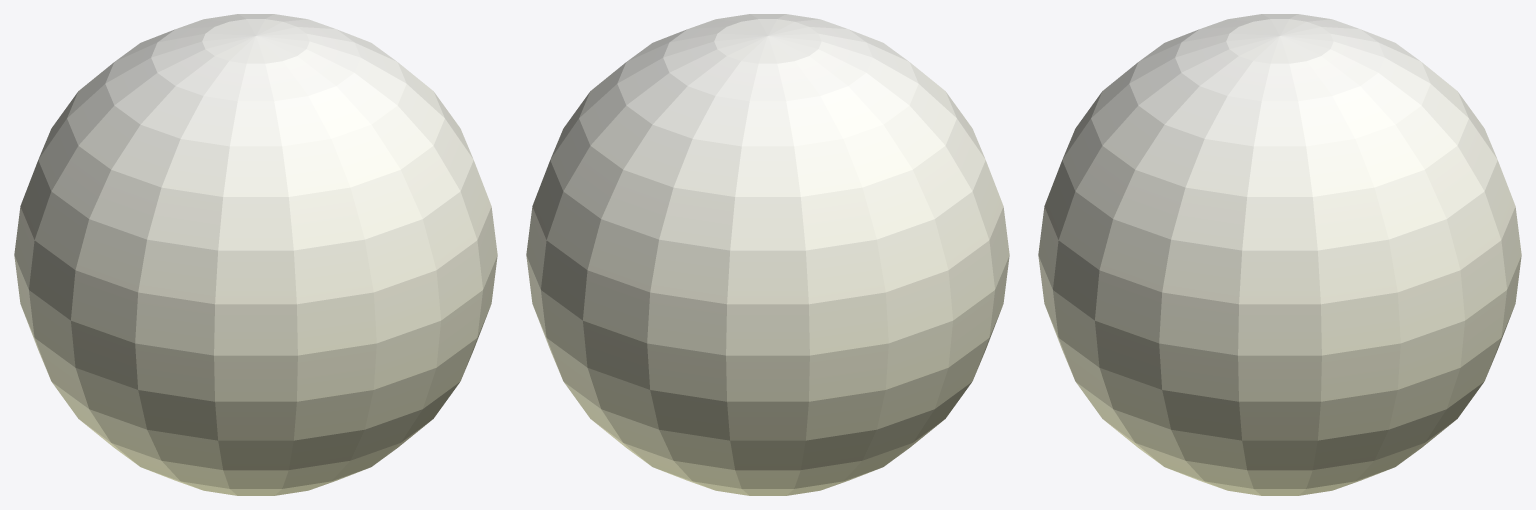
3 renders of one model, left to right at view 1: azimuth 30°, elevation 25°; view 2: azimuth 150°, elevation 25°; view 3: azimuth 270°, elevation 25°, orthographic.
Visible parts, largest first — view 1: Sphere; view 2: Sphere; view 3: Sphere.
Boxes of the visible parts, x1,y1,x2,y2 form: Sphere: [14, 14, 497, 495]; Sphere: [526, 14, 1009, 495]; Sphere: [1038, 14, 1521, 495].
Size of the model in its own units: 98.48 by 100 by 100.
